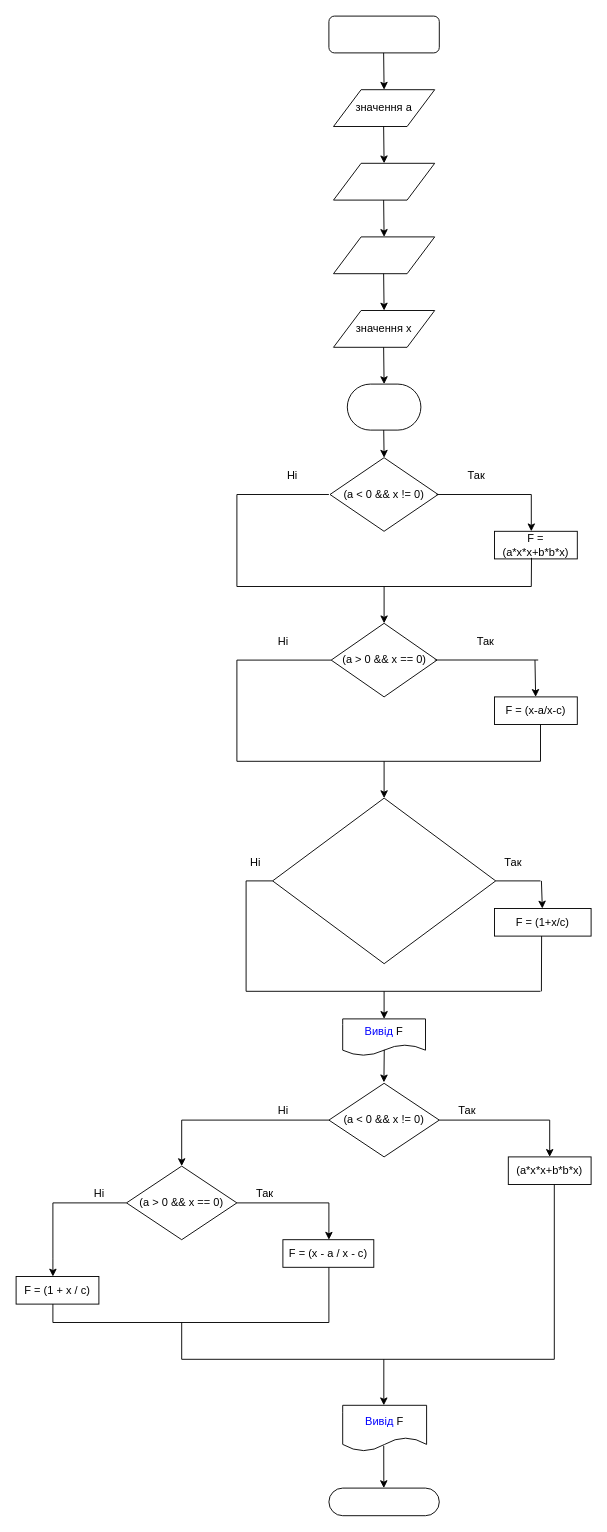
Some shapes in this 607 by 1532 pixel diagram are drawn without their labels. Each missing label, with the centre of its shape:
"(!(x < 0 && a!= 0) && !(x > 0 && a == 0))" belongs at (384,880).
"значення b" belongs at (384,181).
"значення c" belongs at (384,255).
"Кінець" belongs at (383,1501).
"Початок роботи" belongs at (383,34).
"ф-ція F =" belongs at (383,406).
